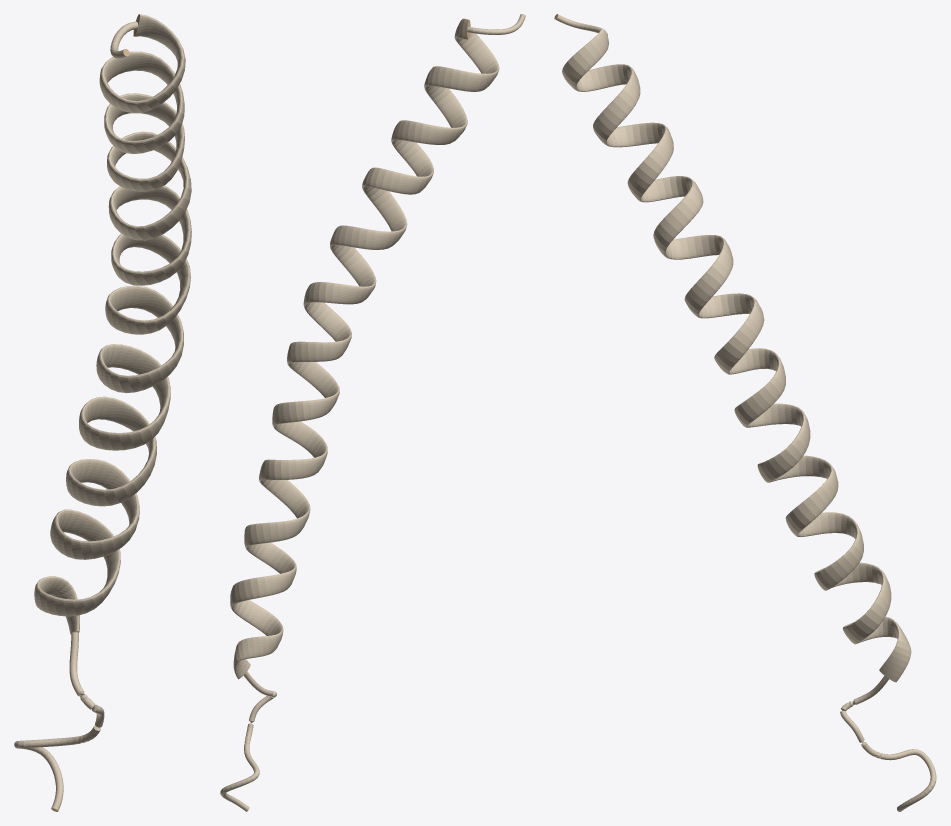
Rendered from SheetHelixSheet.dae.
3 renders of one model, left to right at view 1: azimuth 30°, elevation 25°; view 2: azimuth 150°, elevation 25°; view 3: azimuth 270°, elevation 25°, orthographic. The views are drawn at different scales.
Visible parts, largest first — view 1: Shape_IndexedTriangleStripSet_048; view 2: Shape_IndexedTriangleStripSet_048; view 3: Shape_IndexedTriangleStripSet_048.
Part boxes in pixels (left/top/right/bottom): Shape_IndexedTriangleStripSet_048: left=14, top=14, right=191, bottom=811; Shape_IndexedTriangleStripSet_048: left=220, top=14, right=525, bottom=811; Shape_IndexedTriangleStripSet_048: left=554, top=14, right=936, bottom=811.
Size of the model in its own units: 14.78 by 32.12 by 68.84.
